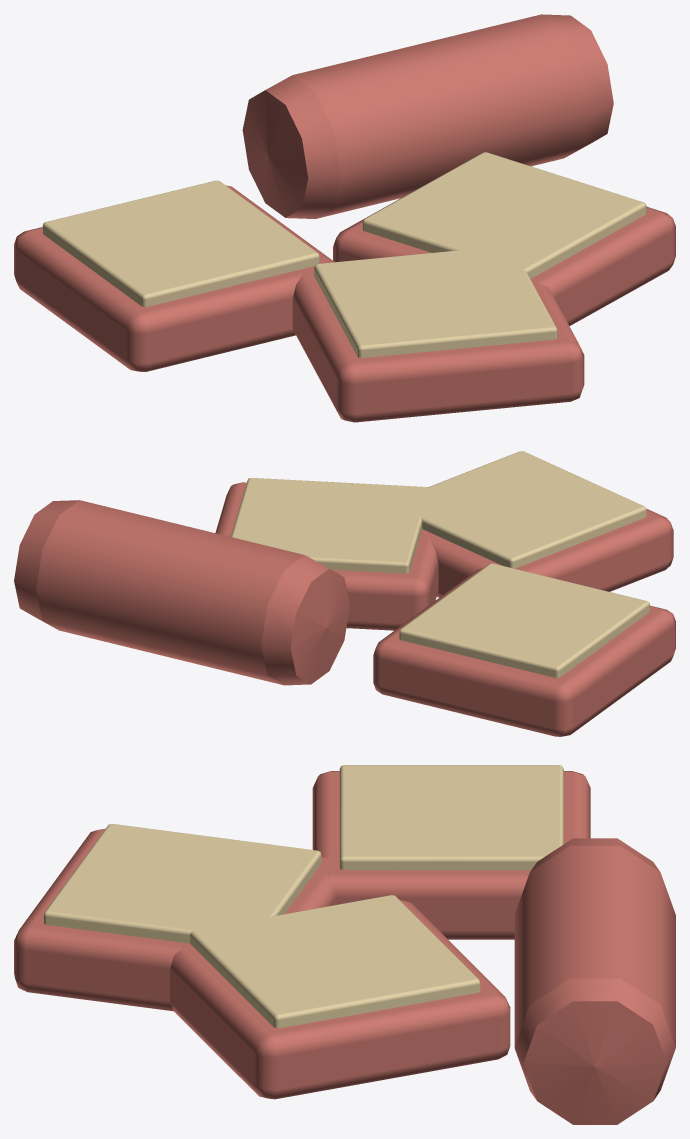
File: floor-cushion-set-25ee916f.glb
3 renders of one model, top to bottom at view 1: azimuth 30°, elevation 25°; view 2: azimuth 150°, elevation 25°; view 3: azimuth 270°, elevation 25°, orthographic. The views are drawn at different scales.
Visible parts, largest first — view 1: floor-cushion-set; view 2: floor-cushion-set; view 3: floor-cushion-set.
Part boxes in pixels (x1,y1,x2,y2): floor-cushion-set: [14, 14, 675, 422]; floor-cushion-set: [14, 451, 675, 736]; floor-cushion-set: [14, 765, 675, 1124].
Bounding box in the file's own units: 1.64 × 0.3512 × 1.48.
